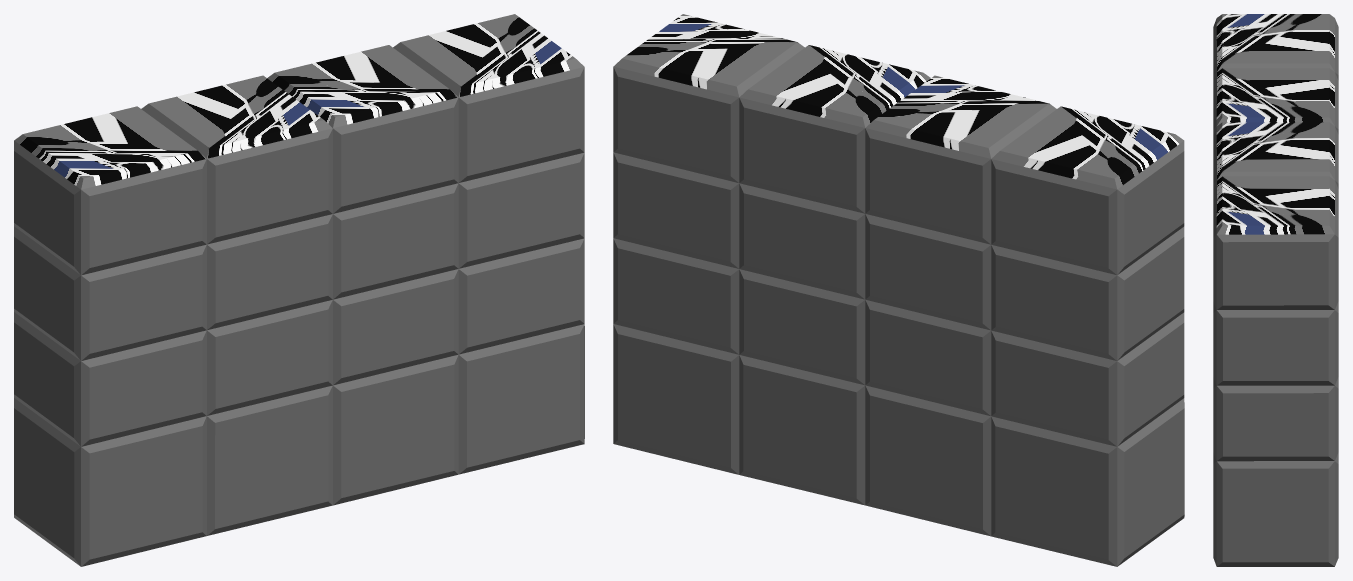
Rendered from Muur_4.fbx.
3 renders of one model, left to right at view 1: azimuth 30°, elevation 25°; view 2: azimuth 150°, elevation 25°; view 3: azimuth 270°, elevation 25°, orthographic. The views are drawn at different scales.
Visible parts, largest first — view 1: Muur_4; view 2: Muur_4; view 3: Muur_4.
Part boxes in pixels (<box>): Muur_4: <box>14,14,584,566</box>; Muur_4: <box>613,14,1184,566</box>; Muur_4: <box>1213,14,1338,566</box>.
Bounding box in the file's own units: 377 × 271 × 90.86.
